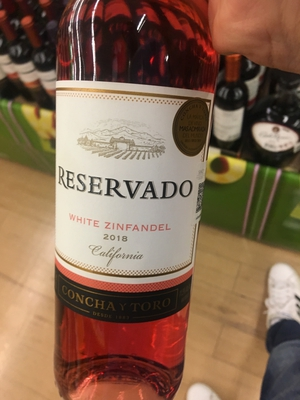reservado white zinfandel: (49, 8, 218, 383)
